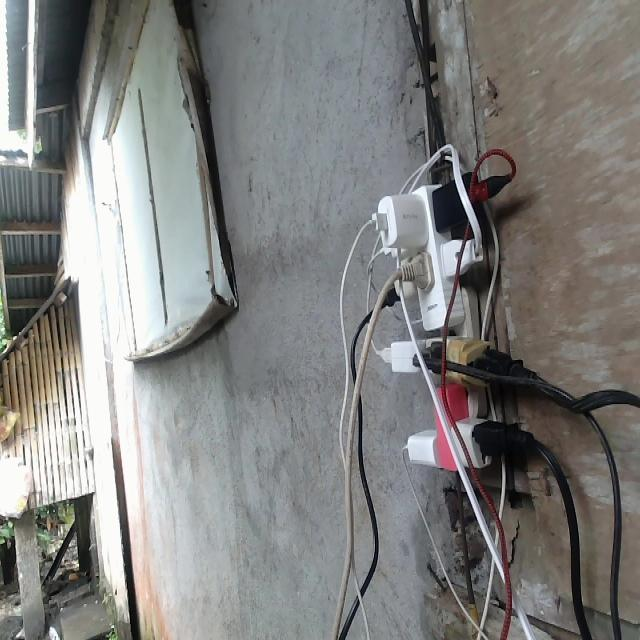-: (364, 173, 512, 472)
